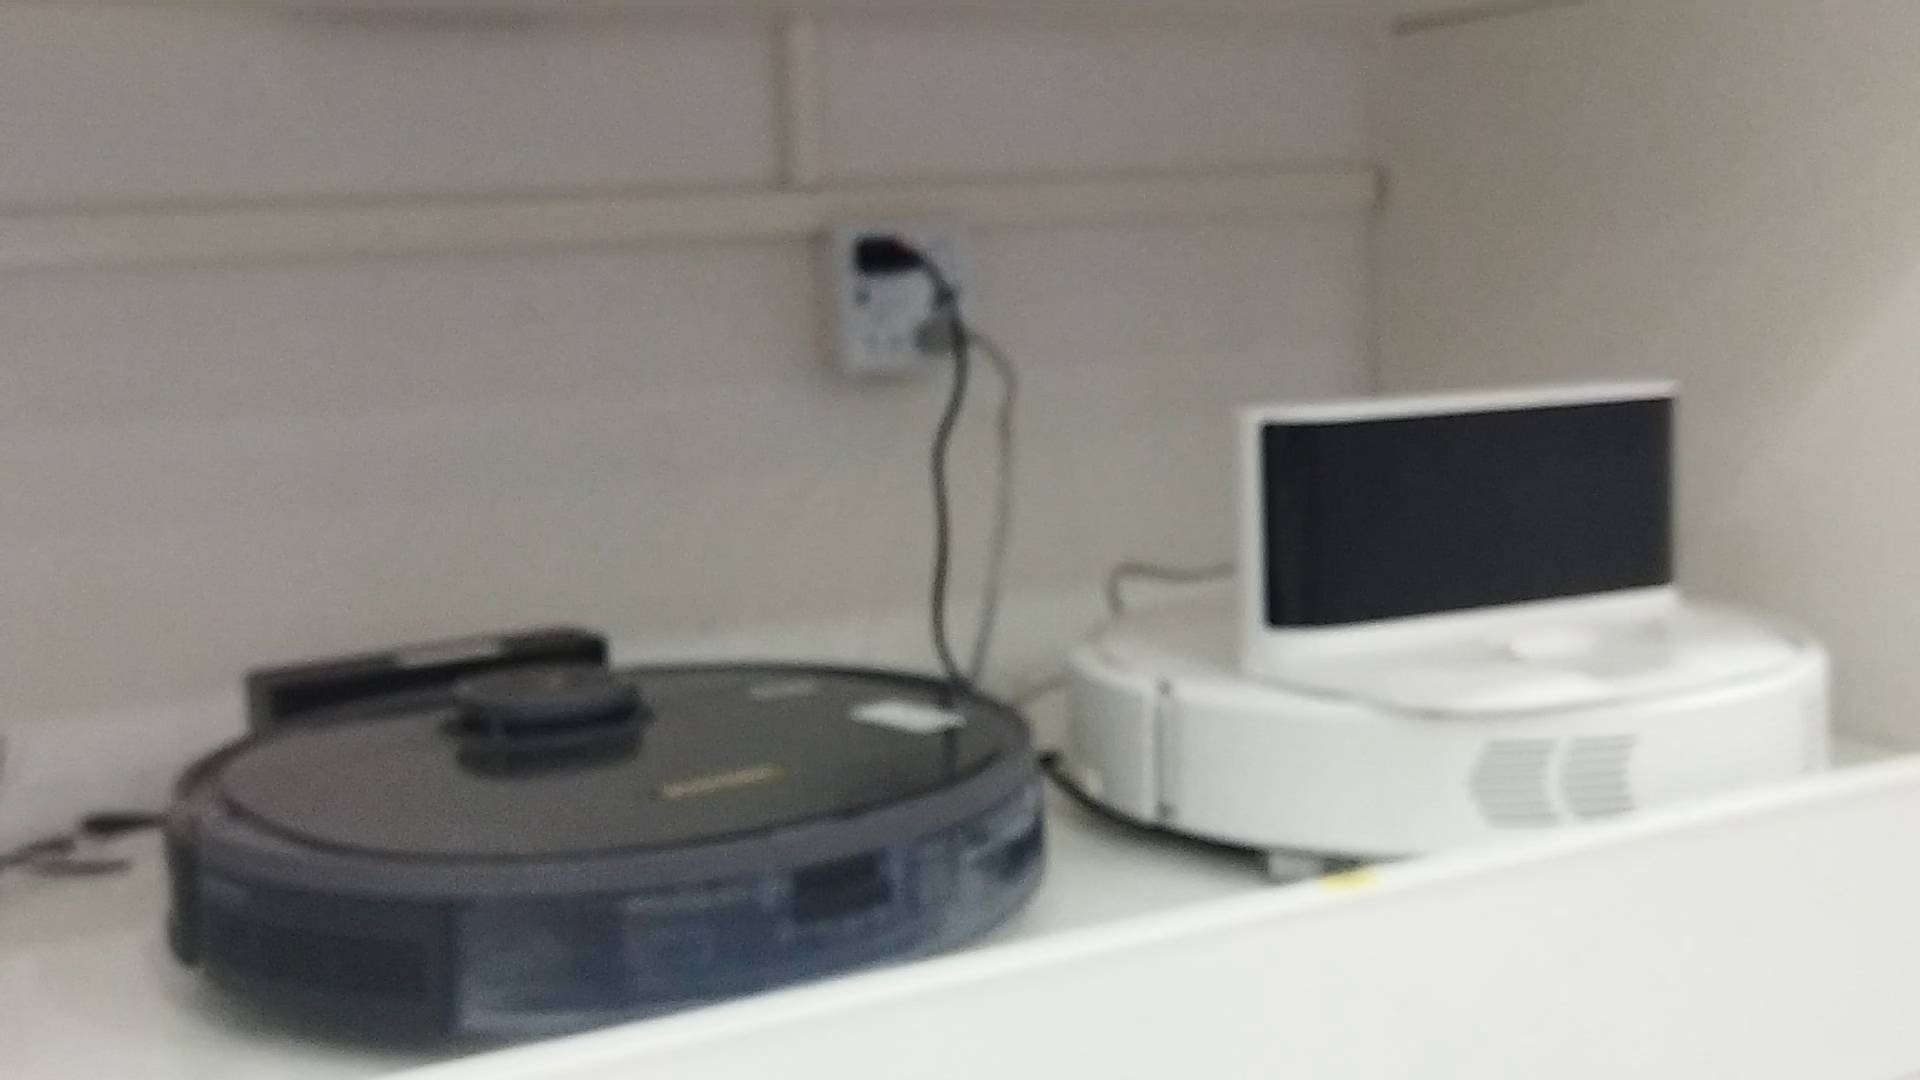recharge seat: (1240, 376, 1801, 715)
